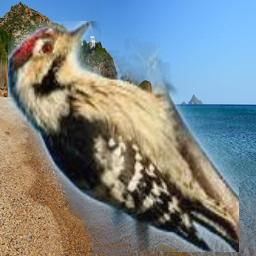Woodpecker: (8, 21, 239, 252)
